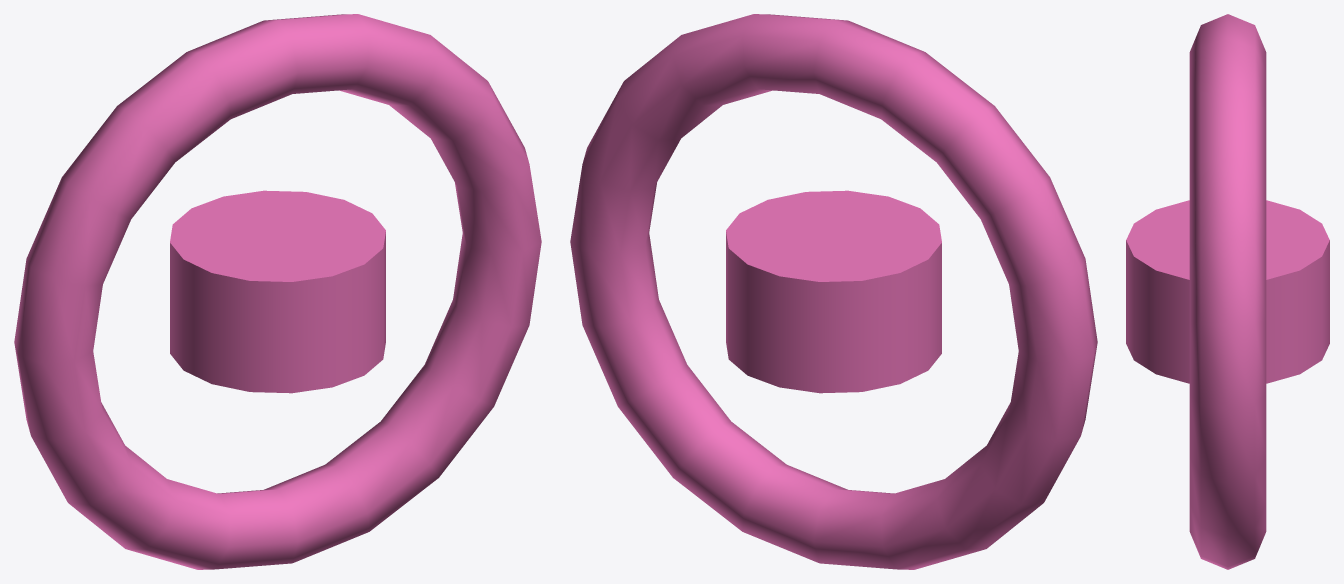
3 renders of one model, left to right at view 1: azimuth 30°, elevation 25°; view 2: azimuth 150°, elevation 25°; view 3: azimuth 270°, elevation 25°, orthographic. The views are drawn at different scales.
Parts seen in each view (by area): view 1: visualHandle, object 6; view 2: visualHandle, object 6; view 3: visualHandle, object 6.
Part boxes in pixels (bbox=[...]): visualHandle: bbox=[14, 14, 541, 569]; object 6: bbox=[170, 190, 385, 393]; visualHandle: bbox=[570, 14, 1097, 569]; object 6: bbox=[726, 190, 941, 393]; visualHandle: bbox=[1189, 14, 1266, 569]; object 6: bbox=[1126, 200, 1329, 383].
Size of the model in its own units: 0.88 by 0.88 by 0.32.
